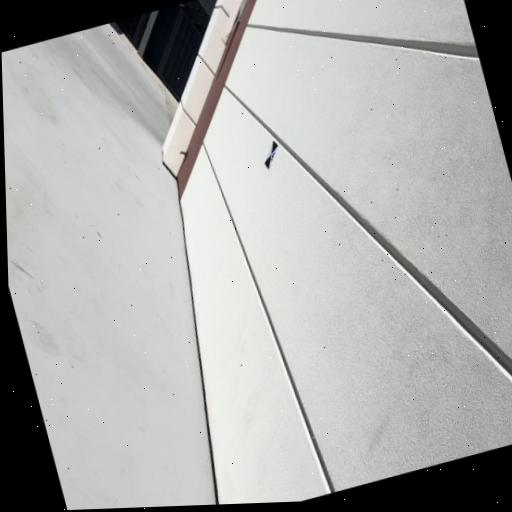target4: (264, 139, 279, 172)
